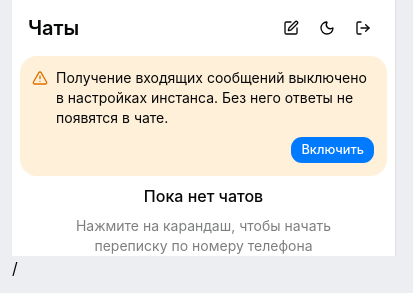
Test case: ChatSidebar › warns when incoming notifications are disabled and enables them
Click the button "Включить" at (333,150), box [290,136,375,164]
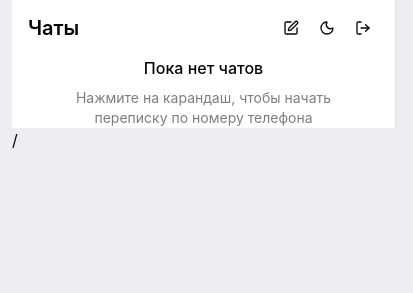
Expected: the button "Включить" is gone
